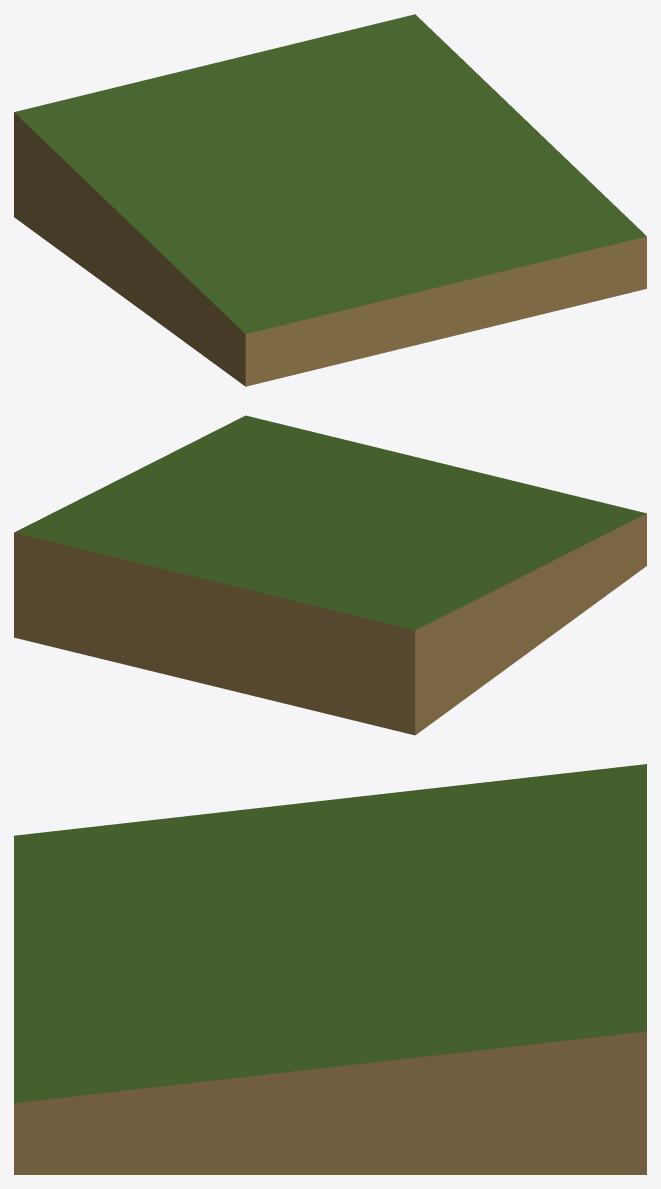
File: Terrain_Tile_Grass_Dirt_Ramp_01.fbx
3 renders of one model, top to bottom at view 1: azimuth 30°, elevation 25°; view 2: azimuth 150°, elevation 25°; view 3: azimuth 270°, elevation 25°, orthographic. The views are drawn at different scales.
Visible parts, largest first — view 1: Terrain_Tile_Grass_Dirt_Ramp_01; view 2: Terrain_Tile_Grass_Dirt_Ramp_01; view 3: Terrain_Tile_Grass_Dirt_Ramp_01.
Part boxes in pixels (x1=…): Terrain_Tile_Grass_Dirt_Ramp_01: x1=14, y1=14, x2=646, y2=386; Terrain_Tile_Grass_Dirt_Ramp_01: x1=14, y1=415, x2=646, y2=735; Terrain_Tile_Grass_Dirt_Ramp_01: x1=14, y1=764, x2=646, y2=1174.
Bounding box in the file's own units: 126 × 31.5 × 126.
